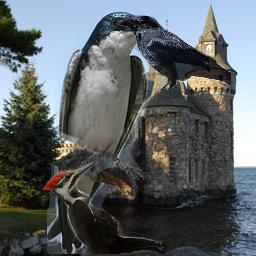Crow: (117, 15, 231, 90)
Swallow: (47, 12, 153, 254)
Woodpecker: (35, 162, 170, 254)
